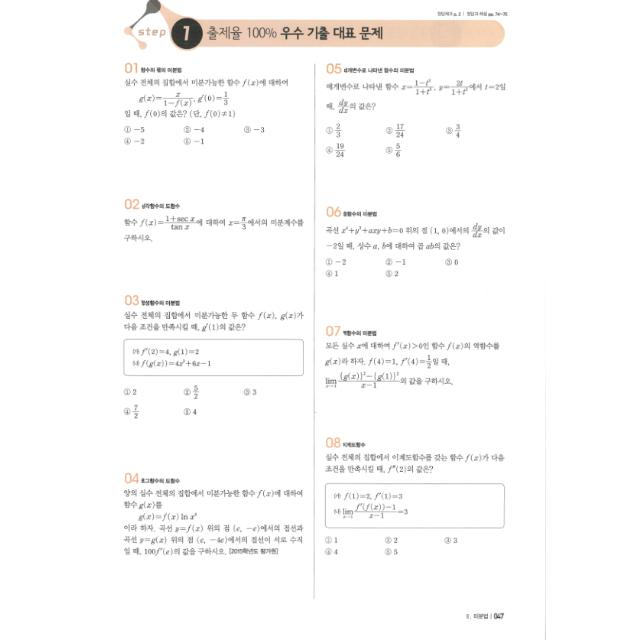multiple: (116, 286, 310, 422), (317, 428, 511, 562), (320, 56, 518, 166), (114, 52, 310, 152), (320, 198, 514, 284)
short: (116, 462, 308, 562), (318, 318, 507, 392), (116, 191, 308, 249)
